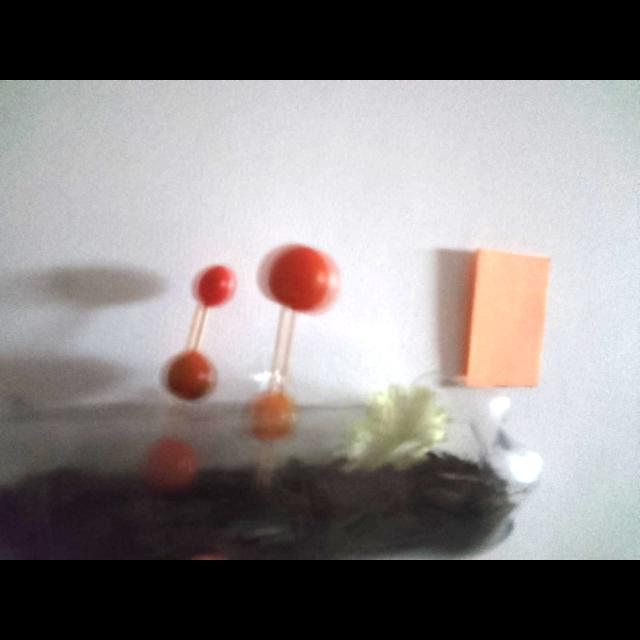card: (464, 249, 550, 386)
fruit_maturation: (252, 392, 295, 441)
fully_grown: (266, 245, 337, 313), (143, 438, 199, 493), (167, 350, 217, 400), (195, 265, 236, 308)
